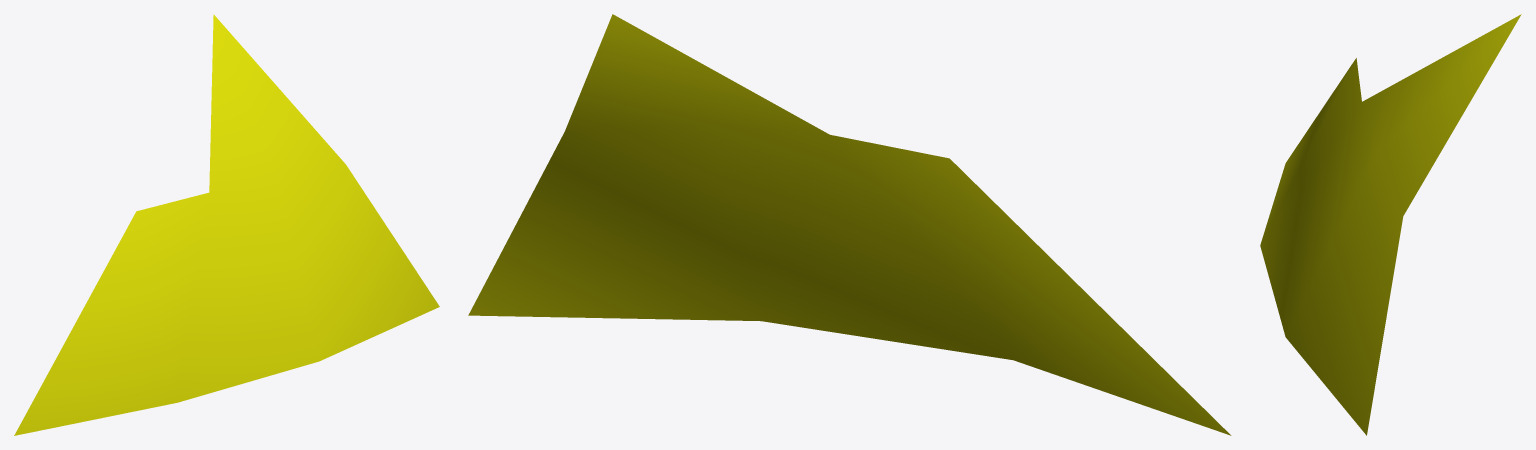
Rendered from Forehead1_95.glb.
3 renders of one model, left to right at view 1: azimuth 30°, elevation 25°; view 2: azimuth 150°, elevation 25°; view 3: azimuth 270°, elevation 25°, orthographic. The views are drawn at different scales.
Size of the model in its own units: 21.2 by 12.46 by 8.93.
